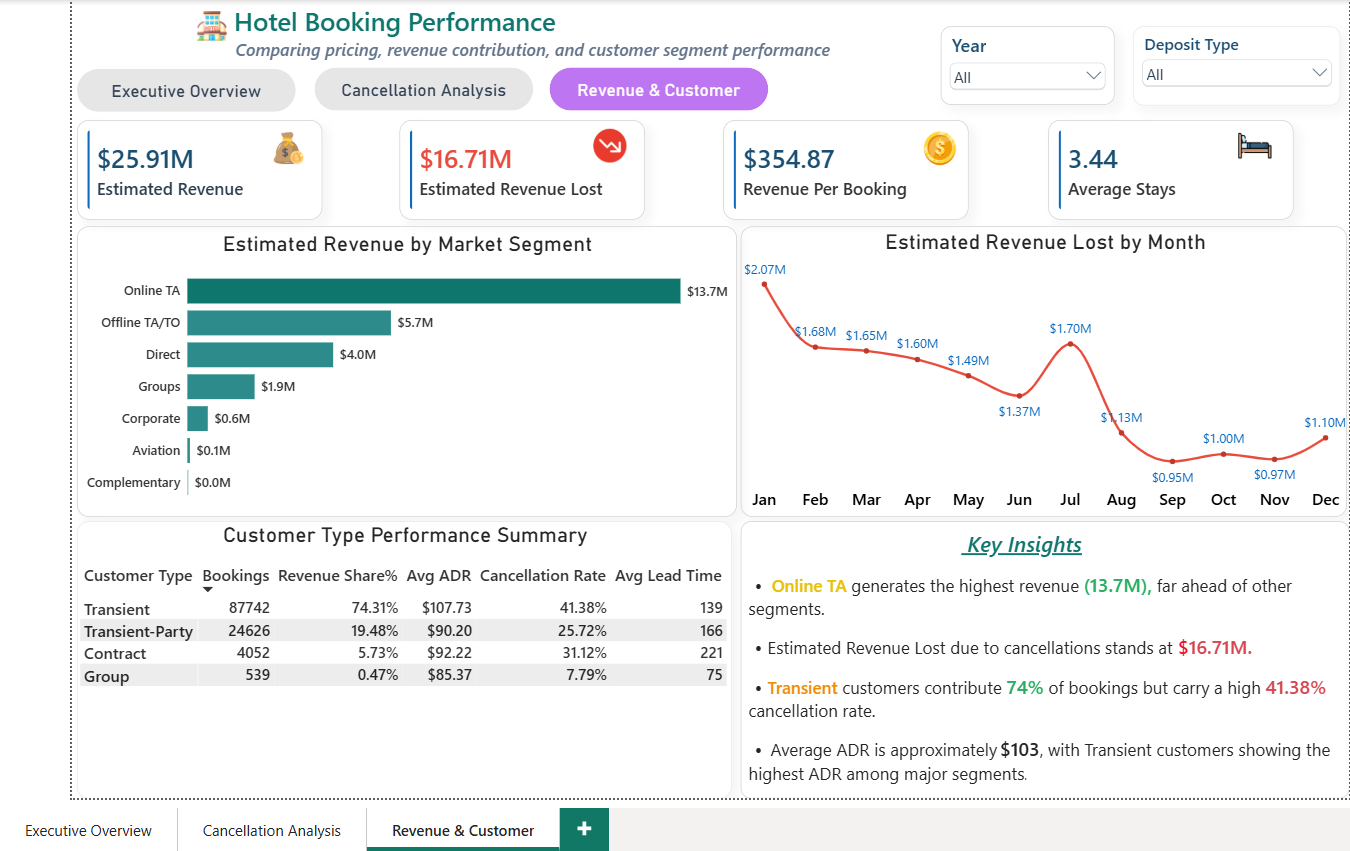

This screenshot's page, from the dashboard's own definition file:
{"tool":"powerbi","page":{"name":"Revenue & Customer ","canvas":[1600,1000],"ordinal":2},"visuals":[{"type":"clusteredBarChart","title":"Estimated Revenue by Market Segment","fields":{"Category":["hotel_bookings_clean.market_segment"],"Y":["_Measure.Estimated Revenue"]},"box":[6.3,283.3,826.6,364],"z":0},{"type":"pivotTable","title":"Customer Type Performance Summary","fields":{"Rows":["hotel_bookings_clean.customer_type"],"Values":["_Measure.Total Bookings","_Measure.Revenue Share %","_Measure.Average ADR","_Measure.Cancellation Rate","_Measure.Avg Lead Time"]},"box":[6.3,652.8,820.3,347.5],"z":1000},{"type":"lineChart","title":"Estimated Revenue Lost by Month","fields":{"Y":["_Measure.Estimated Revenue Lost"],"Category":["Calendar Table.Month Name"]},"box":[837.5,283.3,759,364],"z":2000},{"type":"cardVisual","fields":{"Data":["_Measure.Average Stays"]},"box":[1222.6,150.3,307,125],"z":3000},{"type":"cardVisual","fields":{"Data":["_Measure.Estimated Revenue"]},"box":[6.3,150.3,307,125],"z":4000},{"type":"cardVisual","fields":{"Data":["_Measure.Estimated Revenue Lost"]},"box":[410.1,150.3,307,125],"z":5000},{"type":"textbox","box":[162.8,0,829.7,82],"z":6000},{"type":"slicer","fields":{"Values":["hotel_bookings_clean.deposit"]},"box":[1329.1,32.9,259.4,99.2],"z":7000},{"type":"actionButton","box":[6.3,86.1,274,54],"z":8000},{"type":"actionButton","box":[303.7,84.5,274,54],"z":9000},{"type":"actionButton","box":[598,84.5,274,54],"z":10000},{"type":"cardVisual","fields":{"Data":["_Measure.Revenue Per Booking"]},"box":[815.6,150.3,307,125],"z":11000},{"type":"slicer","fields":{"Values":["Calendar Table.Year"]},"box":[1088,32.9,217.6,98.6],"z":12000},{"type":"textbox","box":[837.5,652.8,762.4,347.5],"z":13000},{"type":"image","box":[651.2,161.2,45,42],"z":14000},{"type":"image","box":[1064.5,164.4,45,42],"z":15000},{"type":"image","box":[1458.9,161.3,45,42],"z":16000},{"type":"image","box":[248.9,164.4,45,42],"z":17000}]}

Visuals, with their boxes on the page's 1600x1000 design canvas (x1, y1, x2, y2). These are canvas units, not pixel positions in the 1350x851 screenshot, which may show the page scaled, cropped or inside an application window:
"Estimated Revenue by Market Segment" clusteredBarChart: detection(6, 283, 833, 647)
"Customer Type Performance Summary" pivotTable: detection(6, 653, 827, 1000)
"Estimated Revenue Lost by Month" lineChart: detection(838, 283, 1596, 647)
cardVisual - _Measure.Average Stays: detection(1223, 150, 1530, 275)
cardVisual - _Measure.Estimated Revenue: detection(6, 150, 313, 275)
cardVisual - _Measure.Estimated Revenue Lost: detection(410, 150, 717, 275)
textbox: detection(163, 0, 992, 82)
slicer - hotel_bookings_clean.deposit: detection(1329, 33, 1588, 132)
actionButton: detection(6, 86, 280, 140)
actionButton: detection(304, 84, 578, 138)
actionButton: detection(598, 84, 872, 138)
cardVisual - _Measure.Revenue Per Booking: detection(816, 150, 1123, 275)
slicer - Calendar Table.Year: detection(1088, 33, 1306, 132)
textbox: detection(838, 653, 1600, 1000)
image: detection(651, 161, 696, 203)
image: detection(1064, 164, 1110, 206)
image: detection(1459, 161, 1504, 203)
image: detection(249, 164, 294, 206)
